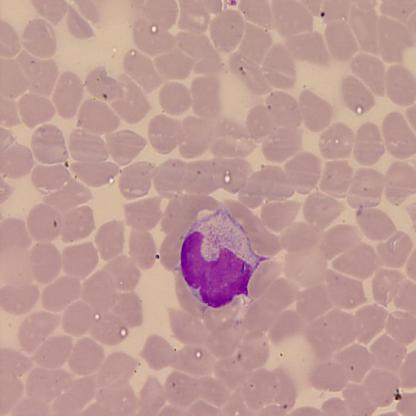Monocyte: (172, 205, 273, 311)
